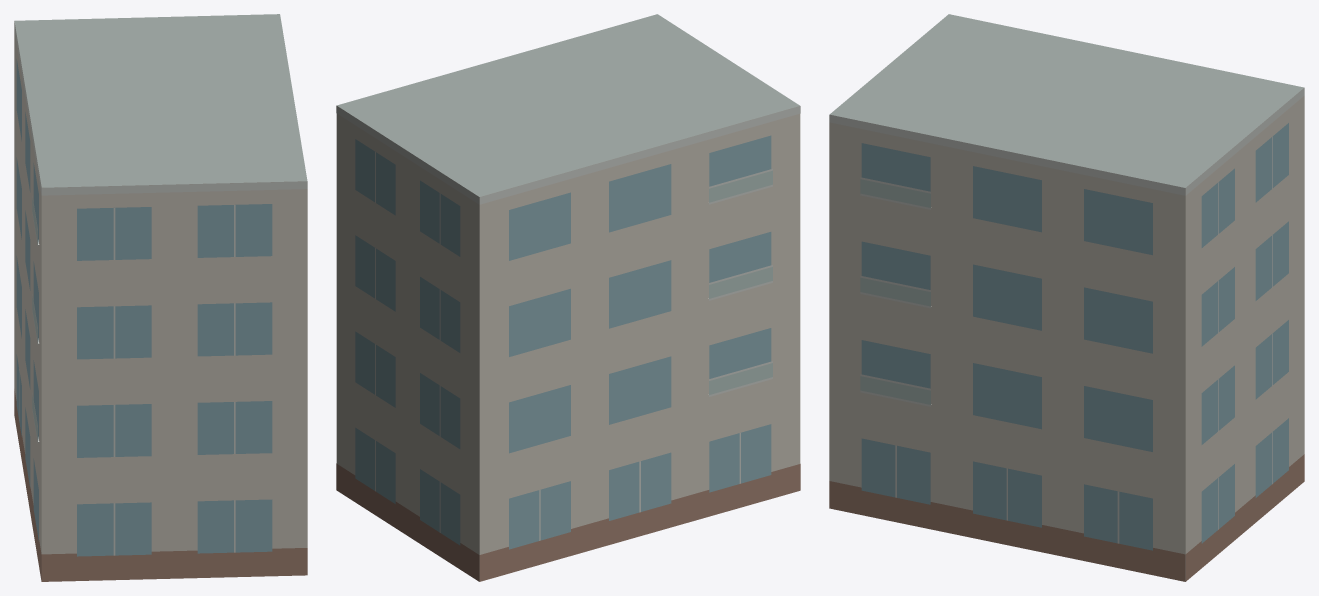
The model's file is survey-upis-32954545.glb.
3 renders of one model, left to right at view 1: azimuth 30°, elevation 25°; view 2: azimuth 150°, elevation 25°; view 3: azimuth 270°, elevation 25°, orthographic. The views are drawn at different scales.
Parts seen in each view (by area): view 1: survey-upis-32954545.tmp; view 2: survey-upis-32954545.tmp; view 3: survey-upis-32954545.tmp.
Part boxes in pixels (x1,y1,x2,y2): survey-upis-32954545.tmp: (14,14,307,581); survey-upis-32954545.tmp: (336,14,800,581); survey-upis-32954545.tmp: (829,14,1304,581).
Size of the model in its own units: 11.57 by 12.2 by 13.35.
